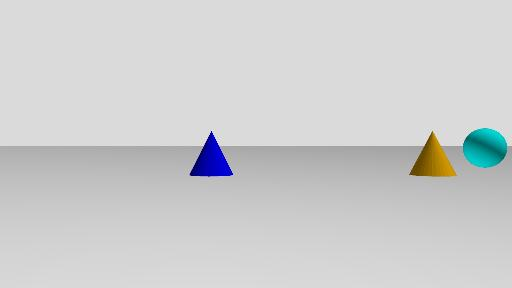blue_cone: (189, 131, 233, 176)
orange_cone: (408, 130, 457, 177)
